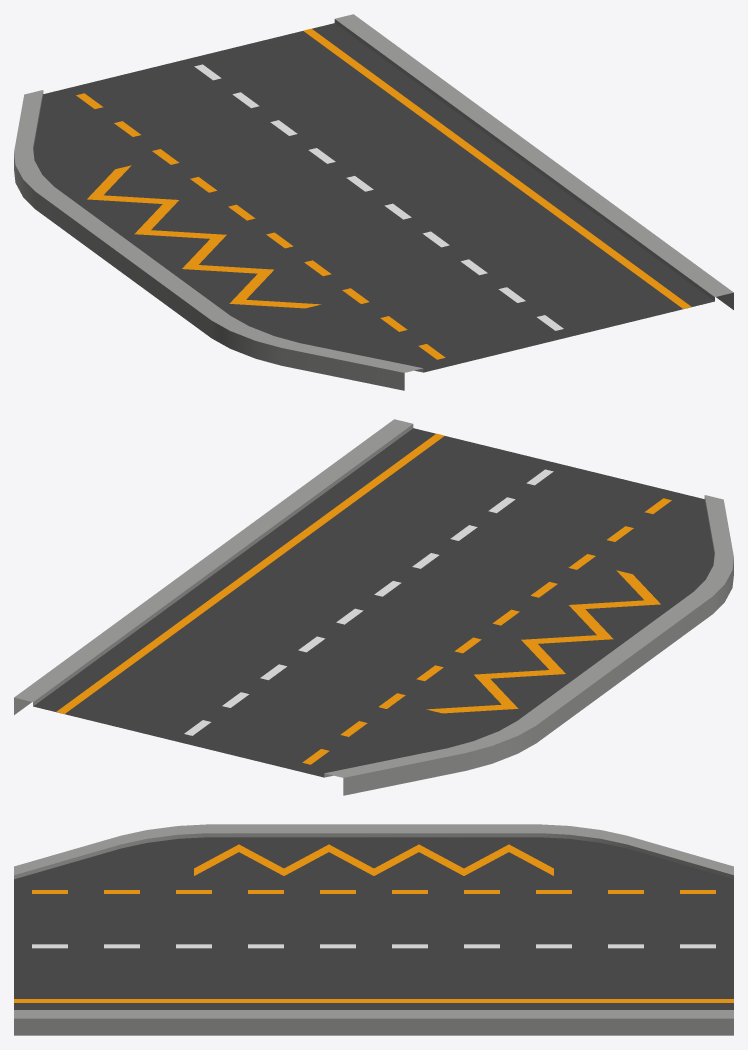
The model's file is Road_A_4.fbx.
3 views of the same model, one above another, from view 1: azimuth 30°, elevation 25°; view 2: azimuth 150°, elevation 25°; view 3: azimuth 270°, elevation 25° (orthographic). The views are drawn at different scales.
Parts seen in each view (by area): view 1: Road_A_4; view 2: Road_A_4; view 3: Road_A_4.
Boxes of the visible parts, bbox=[...] form: Road_A_4: bbox=[14, 14, 733, 390]; Road_A_4: bbox=[14, 419, 733, 795]; Road_A_4: bbox=[14, 824, 733, 1035].
Size of the model in its own units: 1021 by 41.48 by 1600.
